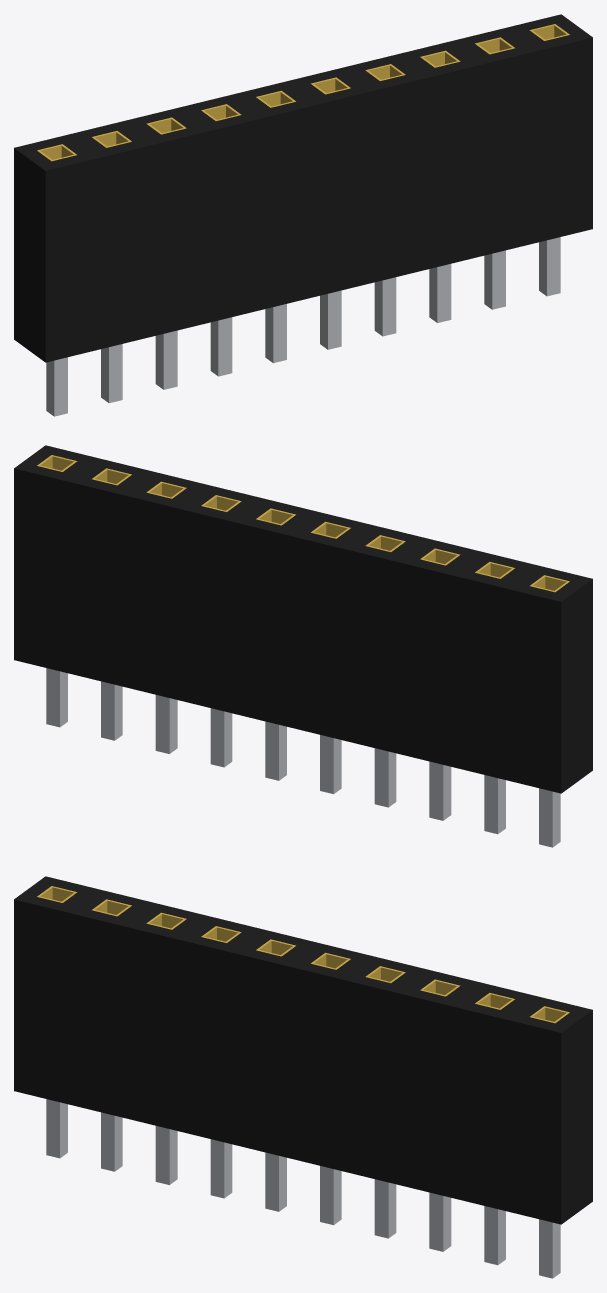
Rendered from socket-strip-1x10.glb.
The picture shows the model from 3 angles, top to bottom: view 1: azimuth 30°, elevation 25°; view 2: azimuth 150°, elevation 25°; view 3: azimuth 330°, elevation 25°; orthographic projection.
Visible parts, largest first — view 1: object 1, tail-4, tail-7, tail-8, tail-3, tail-10, tail-6, tail-1, tail-2, tail-9, tail-5; view 2: object 1, tail-4, tail-7, tail-8, tail-3, tail-10, tail-6, tail-1, tail-2, tail-9, tail-5; view 3: object 1, tail-7, tail-3, tail-4, tail-8, tail-1, tail-5, tail-2, tail-9, tail-10, tail-6.
Part boxes in pixels (left/top/right/bottom): object 1: left=14, top=14, right=592, bottom=362; tail-4: left=210, top=317, right=232, bottom=376; tail-7: left=374, top=277, right=396, bottom=336; tail-8: left=429, top=264, right=451, bottom=322; tail-3: left=155, top=330, right=177, bottom=389; tail-10: left=539, top=237, right=560, bottom=296; tail-6: left=320, top=290, right=341, bottom=349; tail-1: left=46, top=357, right=67, bottom=416; tail-2: left=101, top=344, right=122, bottom=403; tail-9: left=484, top=250, right=505, bottom=309; tail-5: left=265, top=304, right=286, bottom=363; object 1: left=14, top=445, right=592, bottom=793; tail-4: left=374, top=748, right=396, bottom=807; tail-7: left=210, top=708, right=232, bottom=767; tail-8: left=155, top=695, right=177, bottom=753; tail-3: left=429, top=761, right=451, bottom=820; tail-10: left=46, top=668, right=67, bottom=727; tail-6: left=265, top=721, right=286, bottom=780; tail-1: left=539, top=788, right=560, bottom=847; tail-2: left=484, top=775, right=505, bottom=834; tail-9: left=101, top=681, right=122, bottom=740; tail-5: left=320, top=735, right=341, bottom=794; object 1: left=14, top=876, right=592, bottom=1224; tail-7: left=374, top=1179, right=396, bottom=1238; tail-3: left=155, top=1126, right=177, bottom=1184; tail-4: left=210, top=1139, right=232, bottom=1198; tail-8: left=429, top=1192, right=451, bottom=1251; tail-1: left=46, top=1099, right=67, bottom=1158; tail-5: left=265, top=1152, right=286, bottom=1211; tail-2: left=101, top=1112, right=122, bottom=1171; tail-9: left=484, top=1206, right=505, bottom=1265; tail-10: left=539, top=1219, right=560, bottom=1278; tail-6: left=320, top=1166, right=341, bottom=1225.
Bounding box in the file's own units: 0.0254 × 0.0115 × 0.00254.
